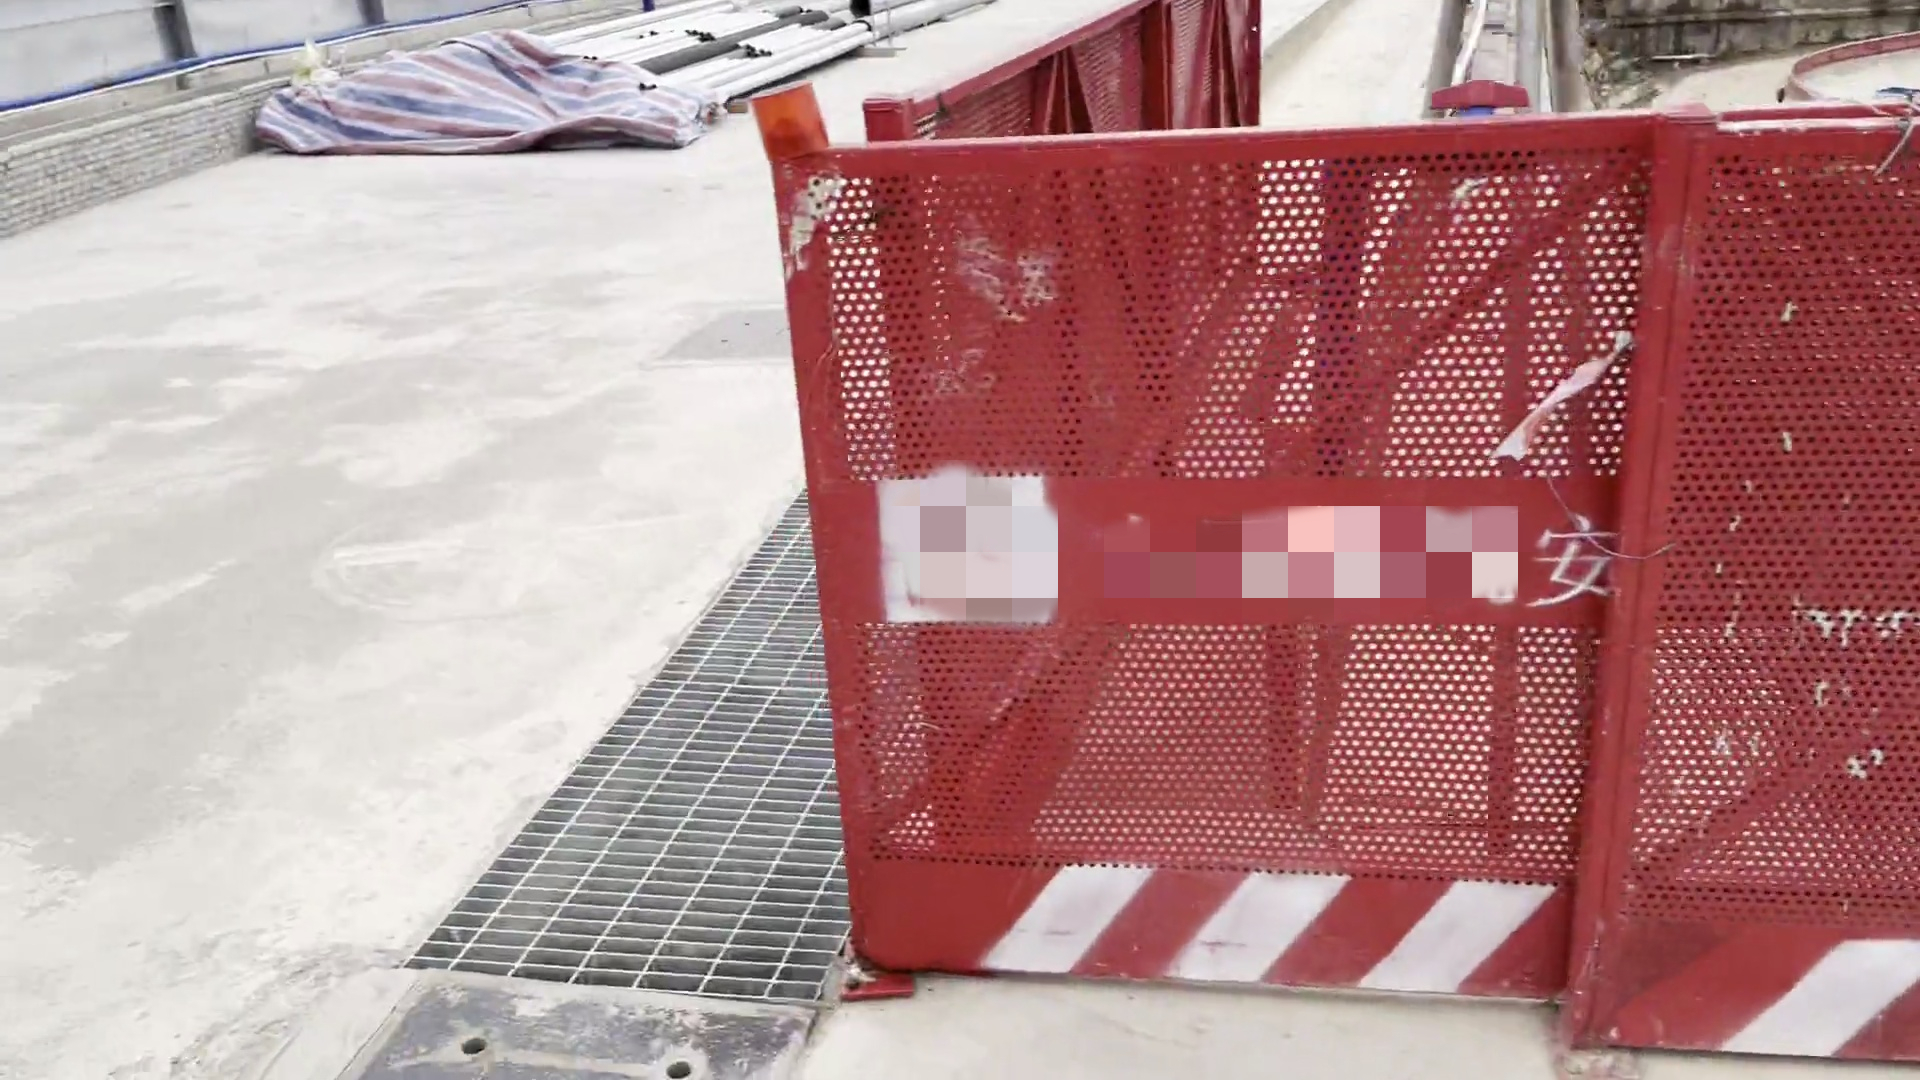brick: (1, 76, 284, 247)
fence: (731, 62, 1917, 1080), (988, 1, 1305, 82)
